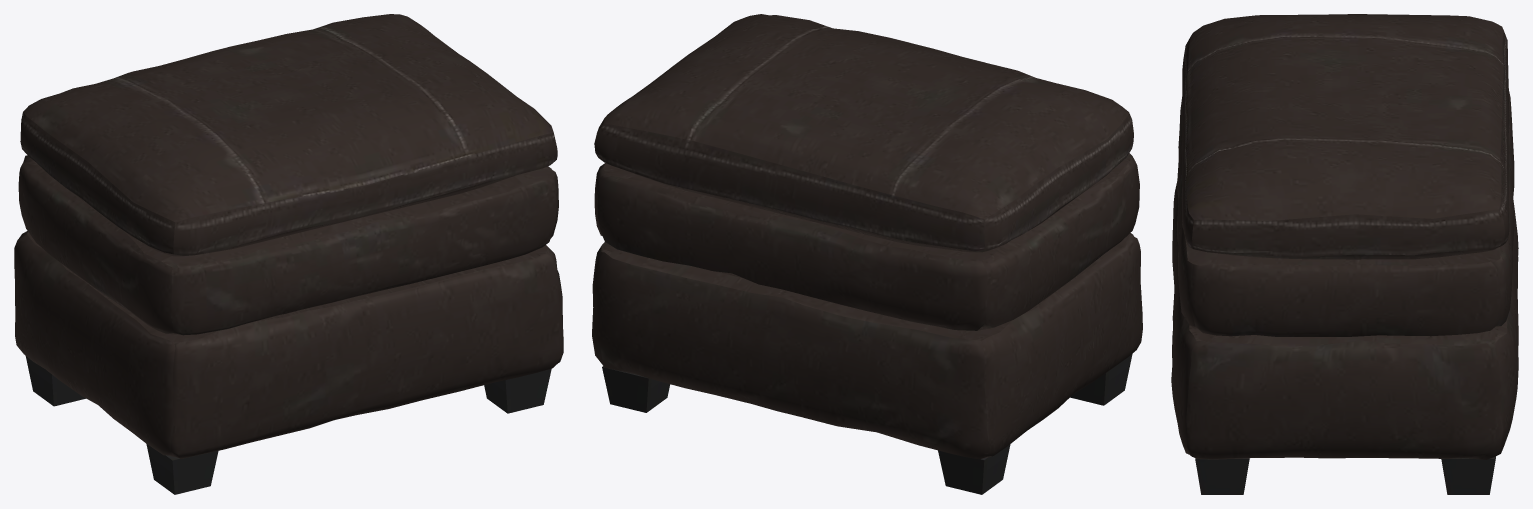
The model's file is ottoman.glb.
The picture shows the model from 3 angles, left to right: view 1: azimuth 30°, elevation 25°; view 2: azimuth 150°, elevation 25°; view 3: azimuth 270°, elevation 25°; orthographic projection.
Parts seen in each view (by area): view 1: Ottoman_01; view 2: Ottoman_01; view 3: Ottoman_01.
Boxes of the visible parts, x1,y1,x2,y2 form: Ottoman_01: (14, 14, 563, 494); Ottoman_01: (592, 14, 1142, 494); Ottoman_01: (1171, 14, 1518, 494).
Bounding box in the file's own units: 0.8846 × 0.6243 × 0.6212.
Materials: 1 (1 with a texture image).
